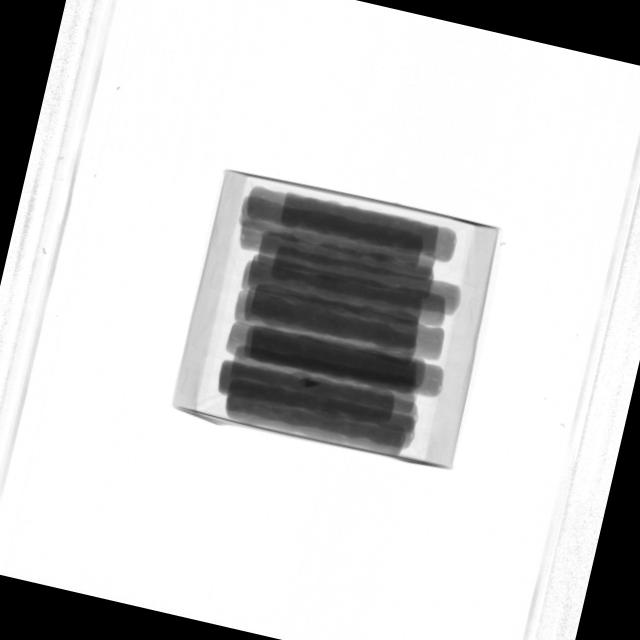ym: (301, 376, 323, 392)
